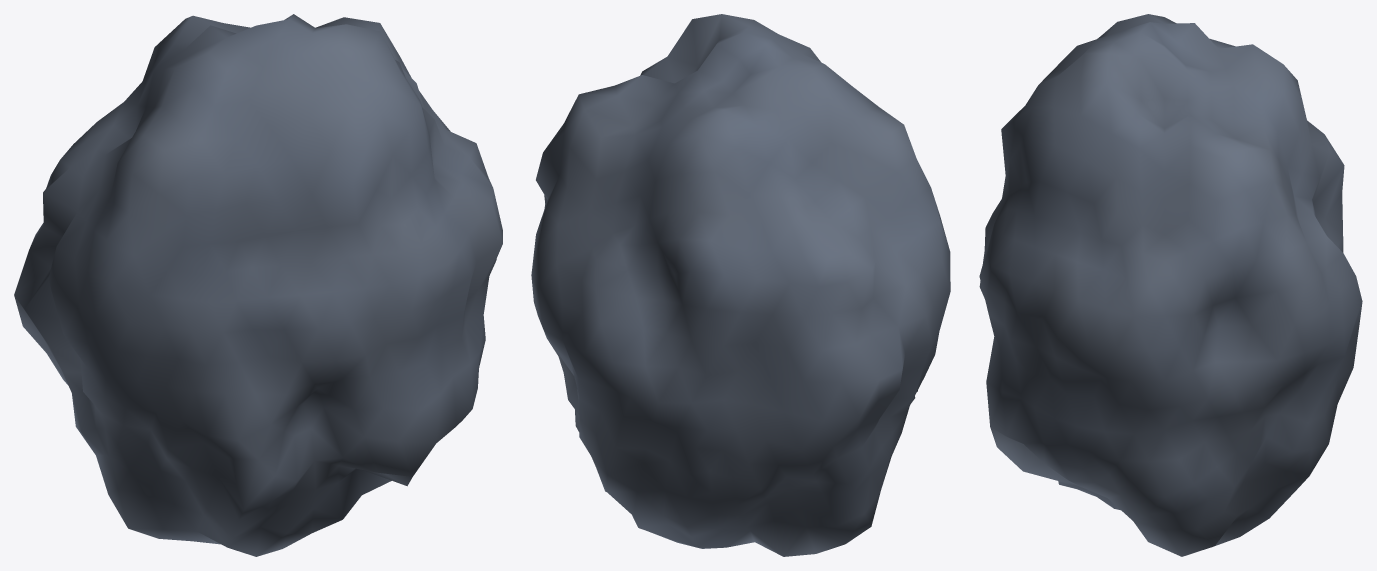
File: asteroid_06.glb
3 renders of one model, left to right at view 1: azimuth 30°, elevation 25°; view 2: azimuth 150°, elevation 25°; view 3: azimuth 270°, elevation 25°, orthographic. The views are drawn at different scales.
Visible parts, largest first — view 1: Asteroid_06; view 2: Asteroid_06; view 3: Asteroid_06.
Boxes of the visible parts, x1,y1,x2,y2 form: Asteroid_06: (14,14,502,556); Asteroid_06: (531,14,950,556); Asteroid_06: (979,14,1362,556).
Size of the model in its own units: 2.1 by 2.49 by 1.75.
